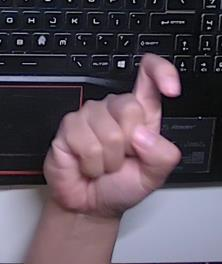anticlockwise: (39, 50, 184, 212)
